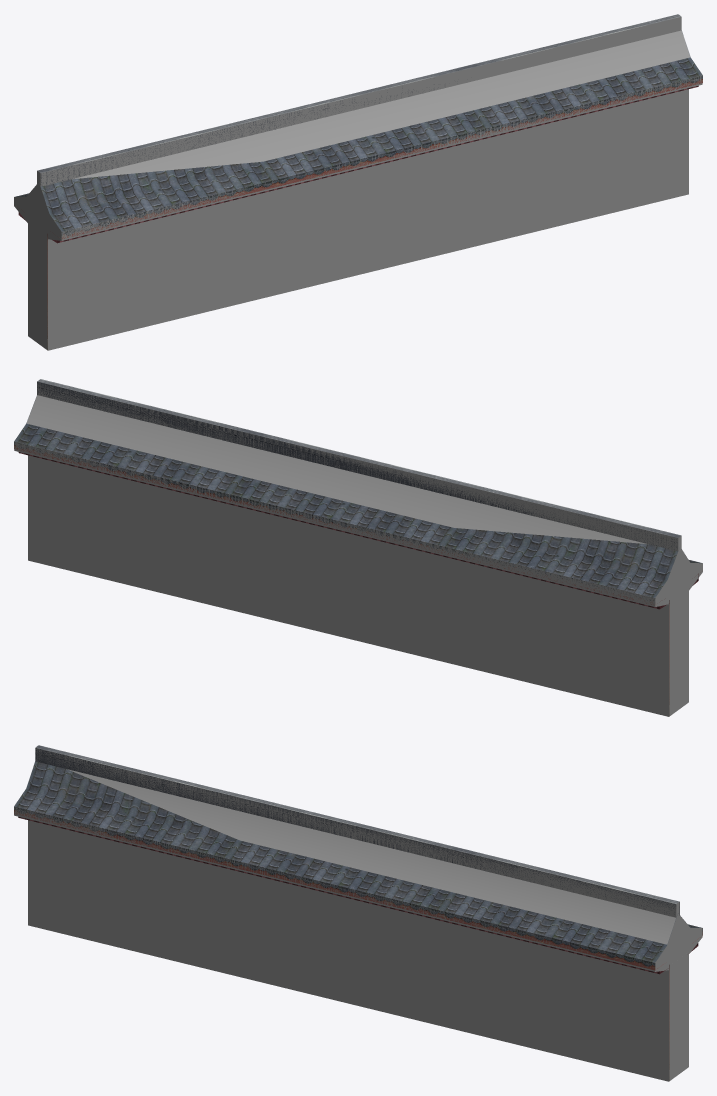
File: Scene_Build_LiangShan_WeiQiang_1.FBX
3 renders of one model, top to bottom at view 1: azimuth 30°, elevation 25°; view 2: azimuth 150°, elevation 25°; view 3: azimuth 330°, elevation 25°, orthographic.
Parts seen in each view (by area): view 1: Scene_Build_LiangShan_WeiQiang_1_Xzm, Scene_Build_LiangShan_WeiQiang_1a; view 2: Scene_Build_LiangShan_WeiQiang_1_Xzm, Scene_Build_LiangShan_WeiQiang_1a; view 3: Scene_Build_LiangShan_WeiQiang_1_Xzm, Scene_Build_LiangShan_WeiQiang_1a.
Boxes of the visible parts, x1,y1,x2,y2 form: Scene_Build_LiangShan_WeiQiang_1_Xzm: (14, 17, 702, 350); Scene_Build_LiangShan_WeiQiang_1a: (15, 14, 702, 243); Scene_Build_LiangShan_WeiQiang_1_Xzm: (14, 381, 702, 716); Scene_Build_LiangShan_WeiQiang_1a: (14, 379, 702, 609); Scene_Build_LiangShan_WeiQiang_1_Xzm: (14, 748, 702, 1081); Scene_Build_LiangShan_WeiQiang_1a: (14, 745, 702, 974).
Size of the model in its own units: 3612 by 927 by 466.
